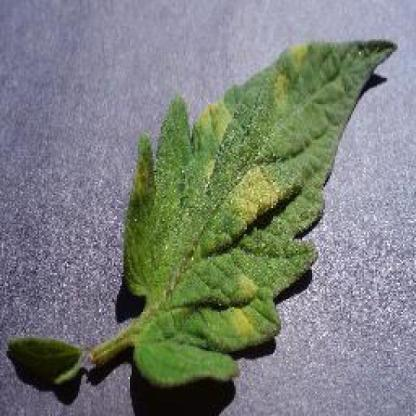Tomato_Leaf_Mold: (127, 40, 396, 382)
